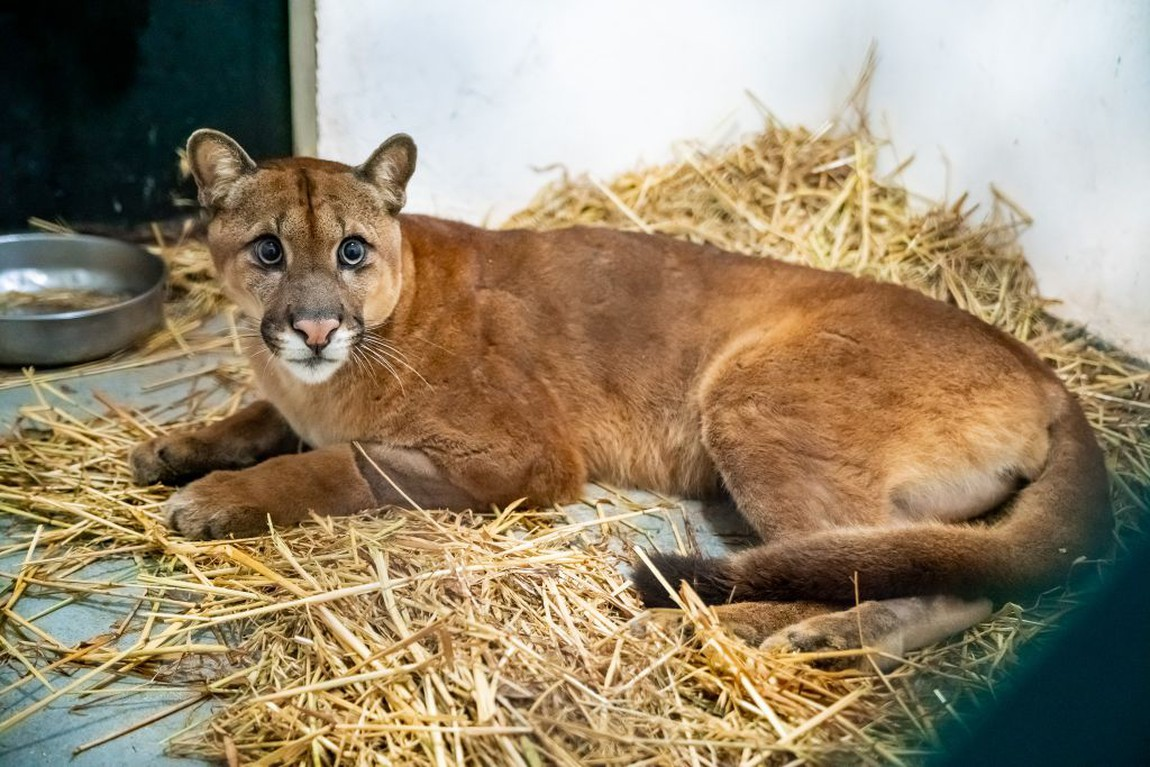OncaParda: (120, 122, 1130, 675)
